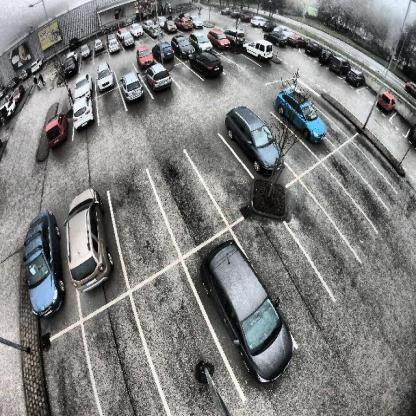free: (159, 317, 219, 402), (101, 331, 152, 408), (264, 239, 316, 300), (116, 201, 164, 264), (47, 348, 92, 414), (166, 178, 210, 241), (211, 152, 252, 206), (305, 201, 335, 254), (316, 182, 351, 212), (282, 130, 309, 163), (98, 96, 122, 123), (173, 62, 194, 87), (352, 149, 371, 176), (356, 178, 372, 210), (377, 152, 395, 176), (324, 96, 342, 117), (233, 50, 251, 70), (328, 120, 342, 142), (222, 54, 235, 73), (115, 61, 135, 72), (58, 96, 72, 110)
occupied: (227, 270, 277, 351), (63, 212, 106, 285), (22, 236, 52, 300), (240, 116, 274, 159), (292, 88, 316, 126), (196, 49, 225, 78), (119, 71, 144, 102), (44, 114, 67, 145), (148, 64, 173, 90), (250, 36, 276, 60), (73, 102, 93, 129), (94, 62, 114, 88), (176, 32, 193, 56), (75, 74, 93, 95), (157, 39, 174, 58), (138, 45, 153, 65), (195, 32, 210, 49)
